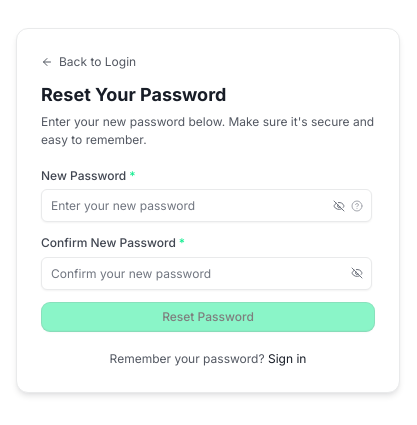
Test: ResetPasswordPage › Form validation - Password field › should clear required error when user types in password field
Click the password field with placeholder "Enter your new password" at x=206, y=206, box [41, 189, 372, 222]
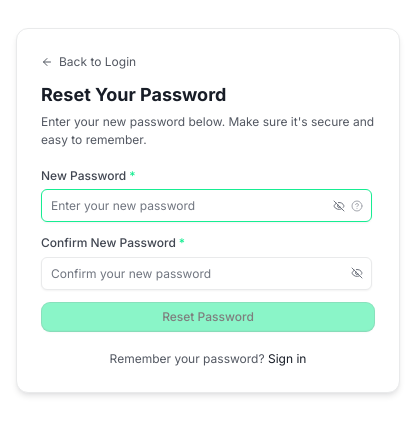
Press Tab
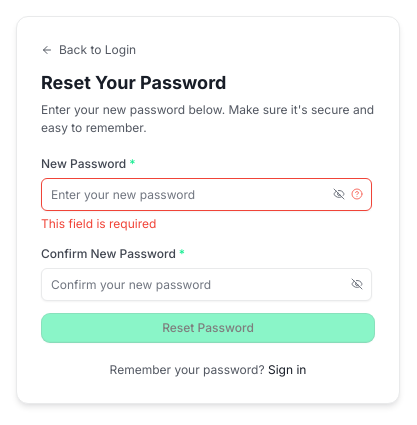
Expected: the text "This field is required" is shown, [41, 216, 156, 231]
Type "T" into the password field labelled "New Password *" at x=206, y=194, box [41, 178, 372, 211]
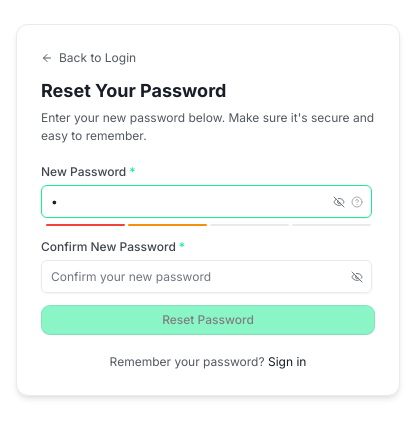
Expected: the text "This field is required" is gone
